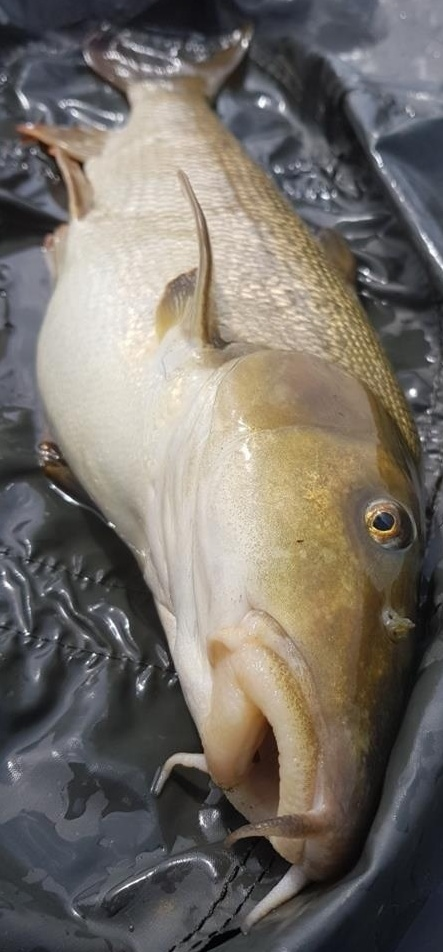Barbus barbus: (20, 20, 423, 932)
